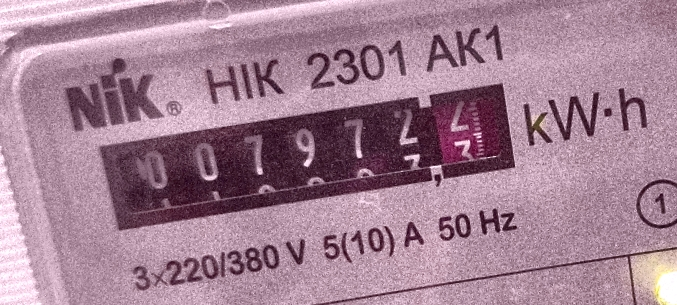0: (140, 146, 172, 190), (191, 137, 221, 182)
2: (392, 105, 420, 146), (443, 98, 470, 134)
3: (450, 135, 476, 163)
7: (340, 113, 372, 162), (240, 130, 271, 178)
9: (291, 123, 319, 169)
screen: (81, 67, 535, 246)
